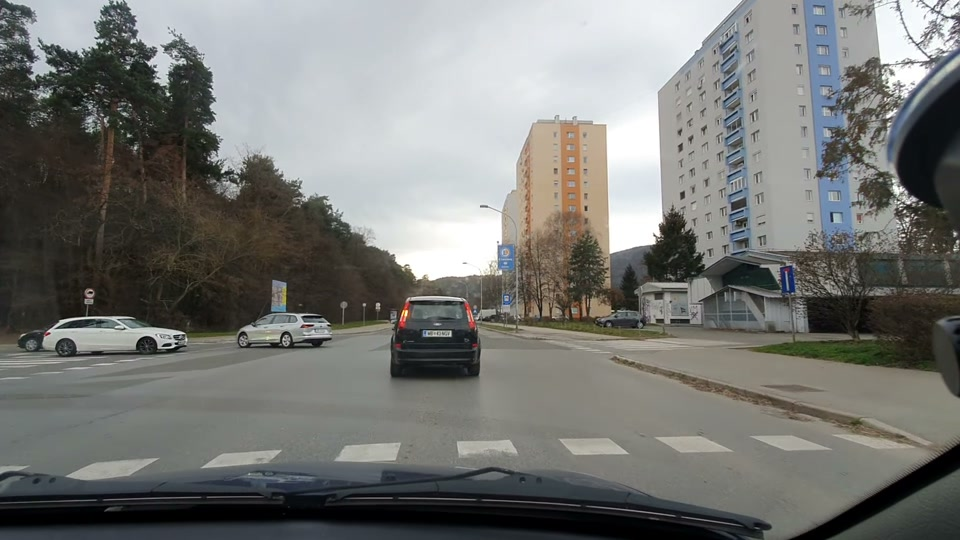vehicle_ign: (385, 288, 491, 381), (232, 300, 332, 352)
vehicle_l: (42, 309, 189, 362)
